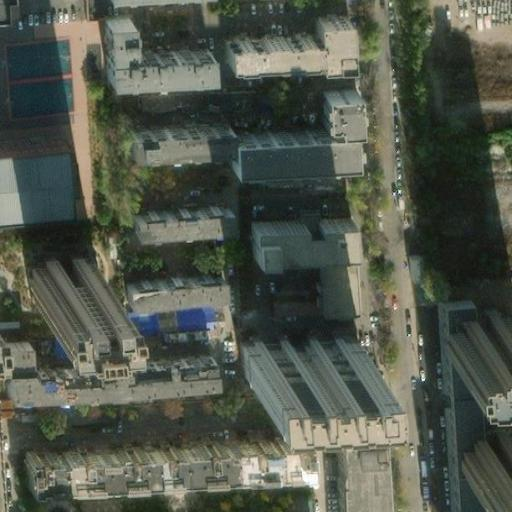building: (226, 94, 354, 176), (438, 304, 483, 512), (98, 12, 209, 80), (220, 7, 347, 62), (19, 436, 164, 471), (163, 428, 308, 463), (235, 332, 354, 373), (251, 213, 354, 257), (335, 440, 387, 512), (104, 117, 208, 152), (113, 269, 215, 303), (107, 203, 208, 237), (114, 351, 208, 383), (21, 254, 91, 293), (317, 254, 356, 316), (441, 315, 512, 349), (452, 433, 512, 467), (270, 299, 320, 320)
